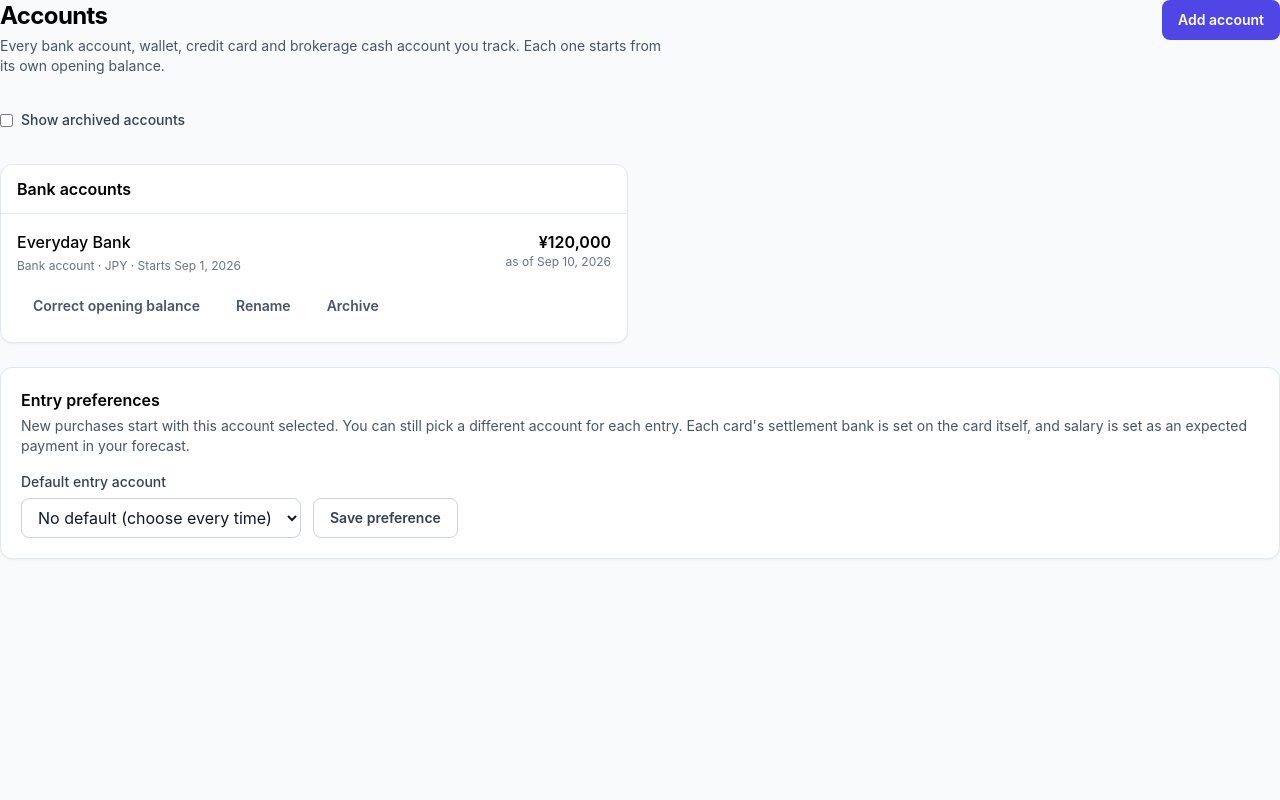
Test: keeps entered values and explains a conflict when a correction is refused
This screenshot has width=1280, height=800.
Click the button named "Correct opening balance for Everyday Bank": (116,306) [17,286,216,326]
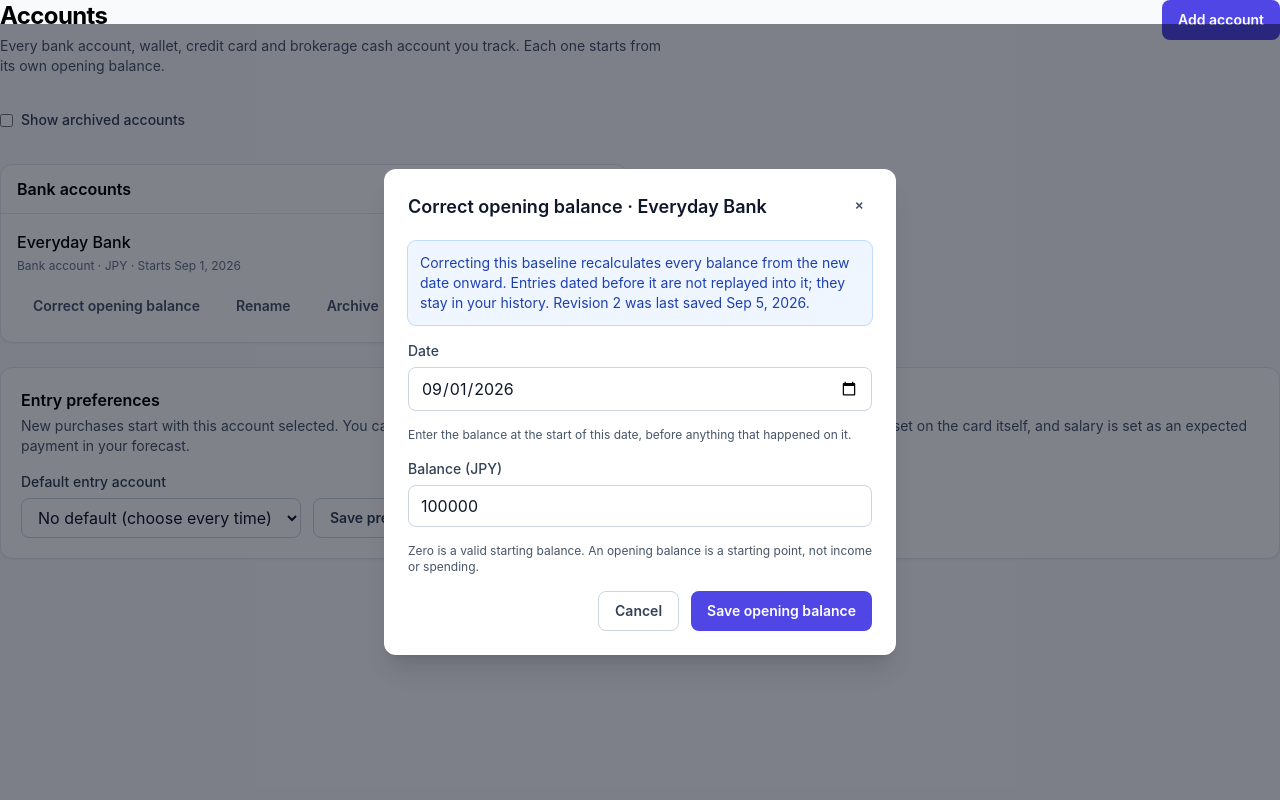
expect the text "entries dated before it are not replayed" is shown: met, box [420,254,850,311]
expect the field labelled "Balance (JPY)" holds "100000": met
Replace the text in the field labelled "Balance (JPY)" with "98000": (640,506) [408,485,872,527]
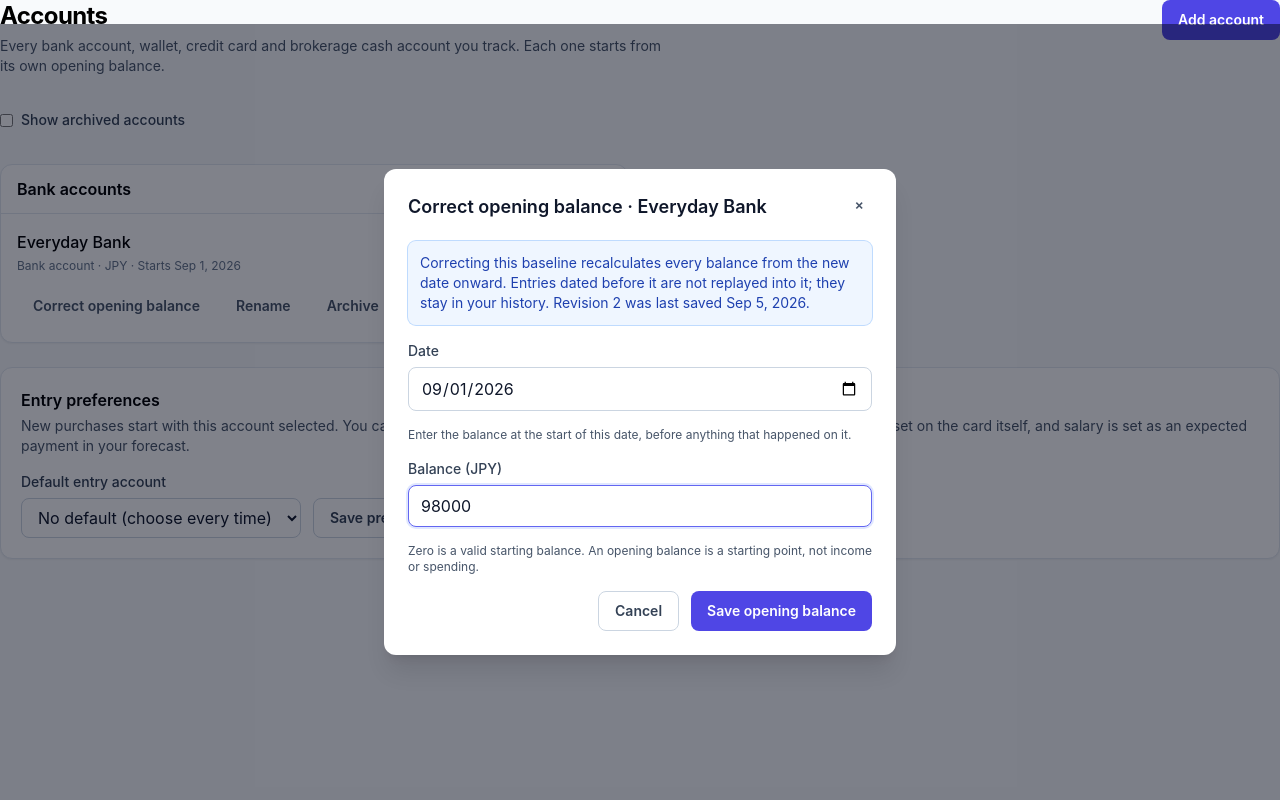
Click the button "Save opening balance": (782,611) [691,591,872,631]
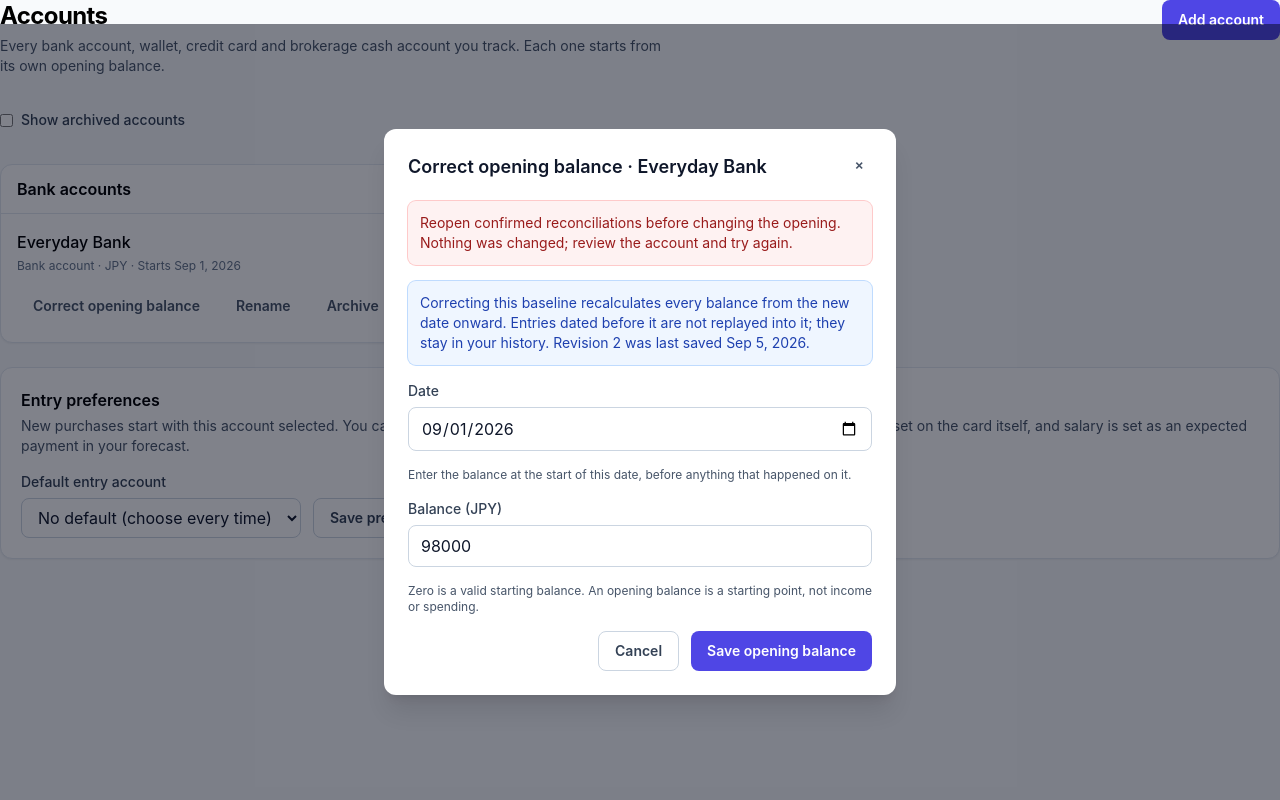
expect the 1st message shows "Reopen confirmed reconciliations before changing the opening. Nothing was changed": met, box [420,214,841,251]
